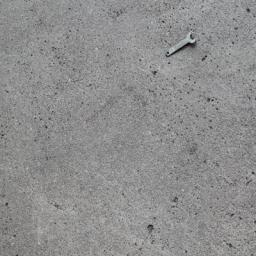FOD: (165, 29, 204, 59)
